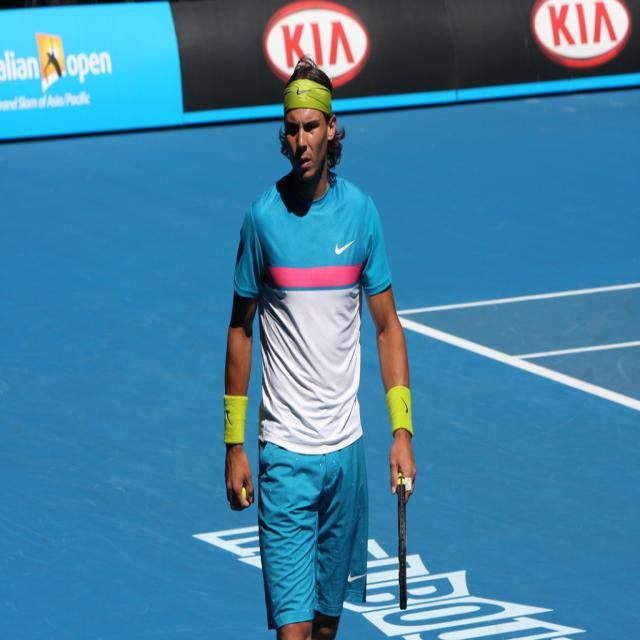Tennis ball: (242, 486, 246, 498)
